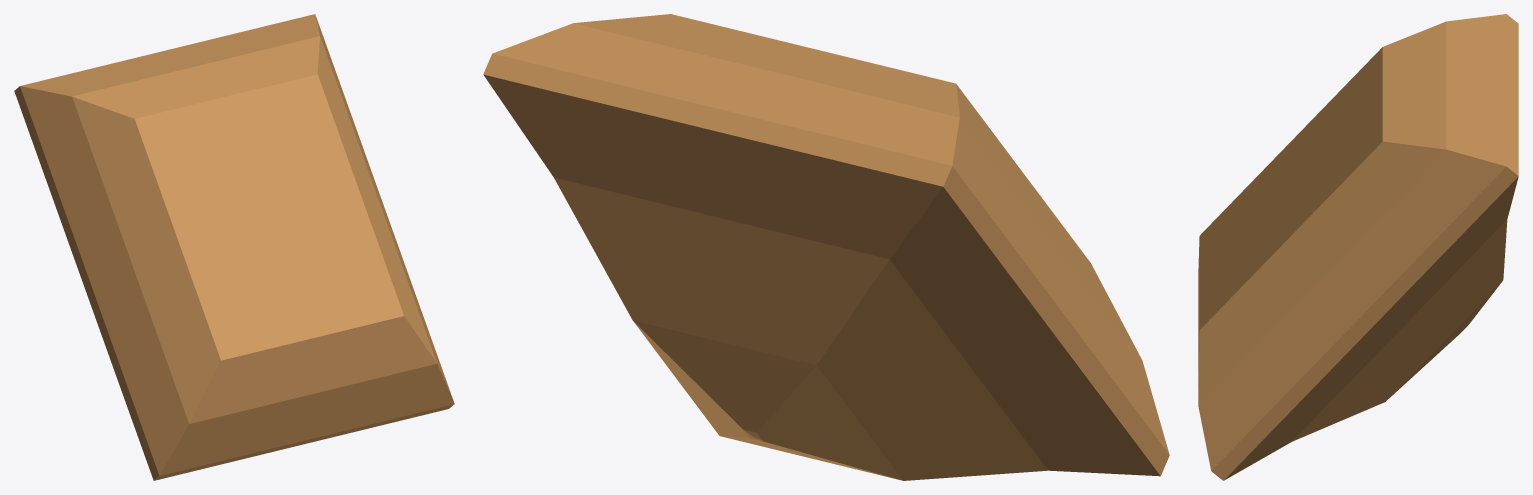
File: imperial-topaz.glb
The picture shows the model from 3 angles, left to right: view 1: azimuth 30°, elevation 25°; view 2: azimuth 150°, elevation 25°; view 3: azimuth 270°, elevation 25°; orthographic projection. The views are drawn at different scales.
Visible parts, largest first — view 1: imperial-topaz; view 2: imperial-topaz; view 3: imperial-topaz.
Boxes of the visible parts, x1=… form: imperial-topaz: x1=14, y1=14, x2=454, y2=480; imperial-topaz: x1=483, y1=14, x2=1169, y2=480; imperial-topaz: x1=1198, y1=14, x2=1518, y2=480.
Size of the model in its own units: 1.84 by 1.8 by 1.64.
